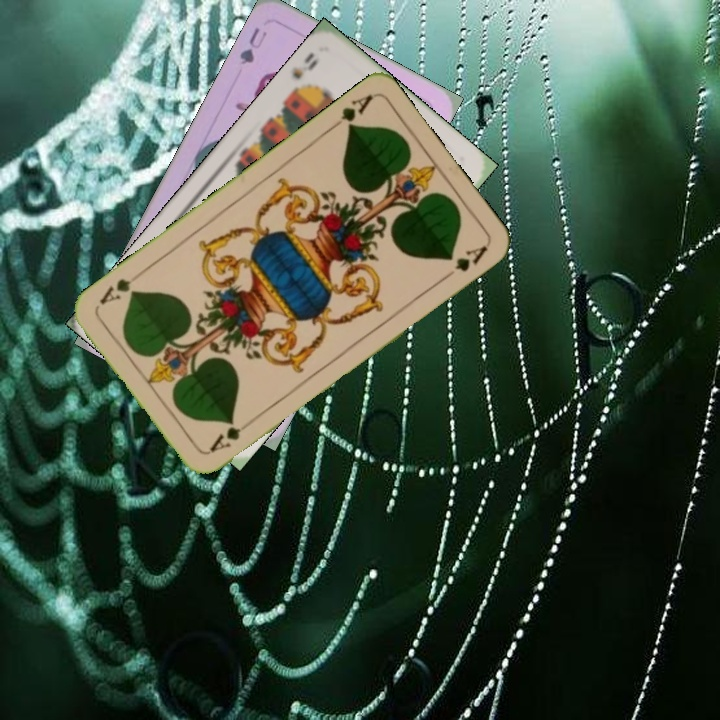GA: (325, 91, 376, 133), (205, 414, 256, 456)
GU: (235, 23, 270, 68)
S9: (285, 48, 320, 98)
